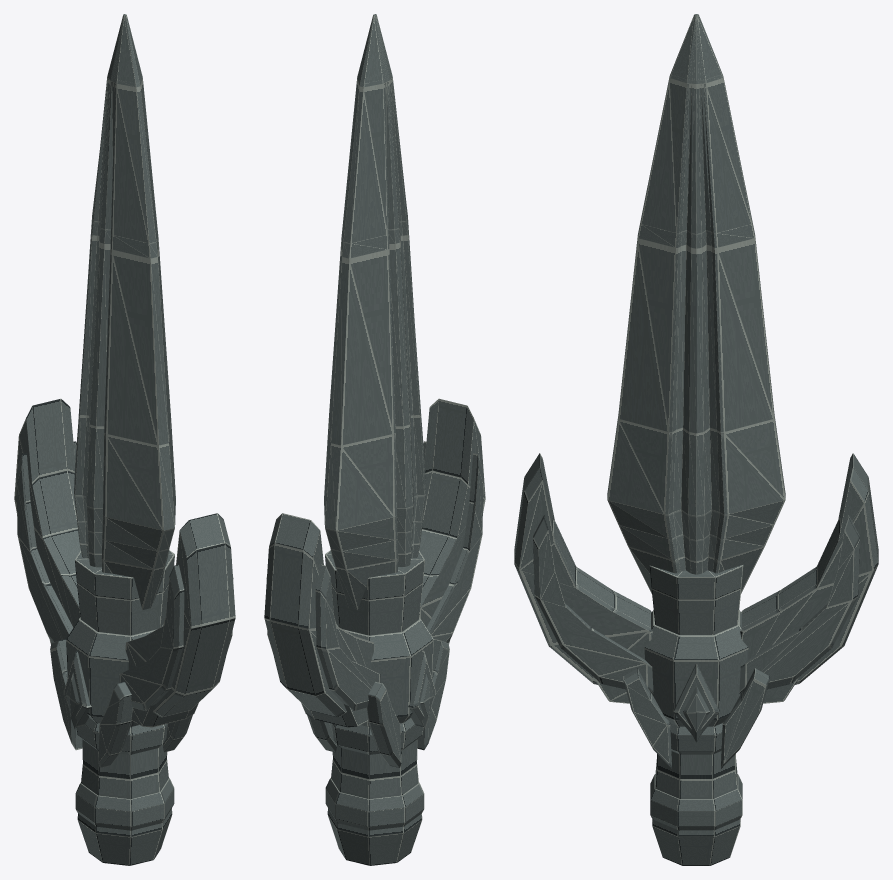
Rendered from workpiece_zhuji_baiqing_lingyun_spear_shaped.obj.
The picture shows the model from 3 angles, left to right: view 1: azimuth 30°, elevation 25°; view 2: azimuth 150°, elevation 25°; view 3: azimuth 270°, elevation 25°; orthographic projection.
Parts seen in each view (by area): view 1: geometry; view 2: geometry; view 3: geometry.
Boxes of the visible parts, <box> form: geometry: <box>14,14,235,865</box>; geometry: <box>264,14,485,865</box>; geometry: <box>514,14,878,865</box>.
Bounding box in the file's own units: 0.1279 × 0.925 × 0.365.
